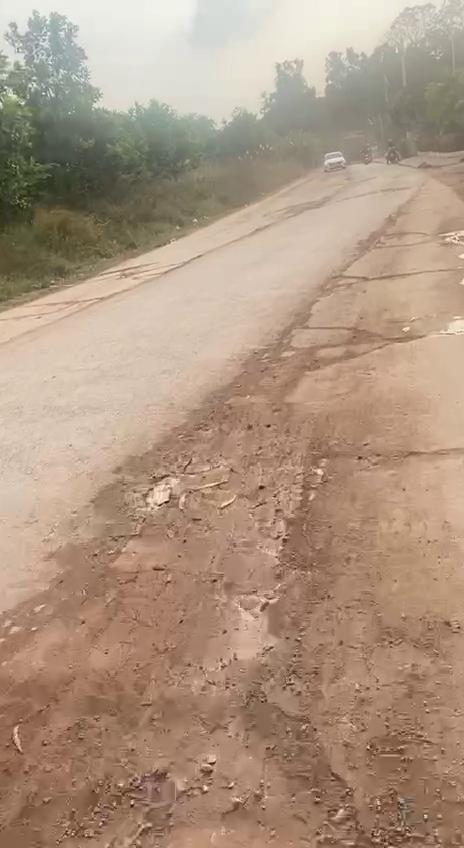pothole: (118, 698, 390, 848)
